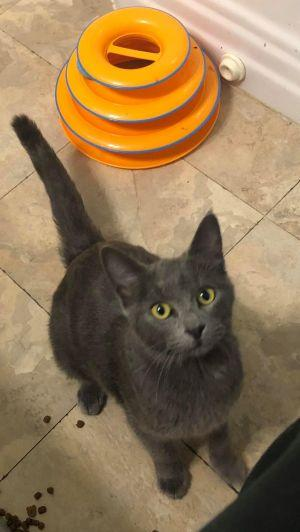rblue: (98, 210, 265, 397)
